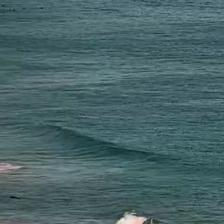surfer: (11, 8, 16, 13), (38, 6, 44, 10), (21, 7, 26, 11), (1, 4, 6, 8)
